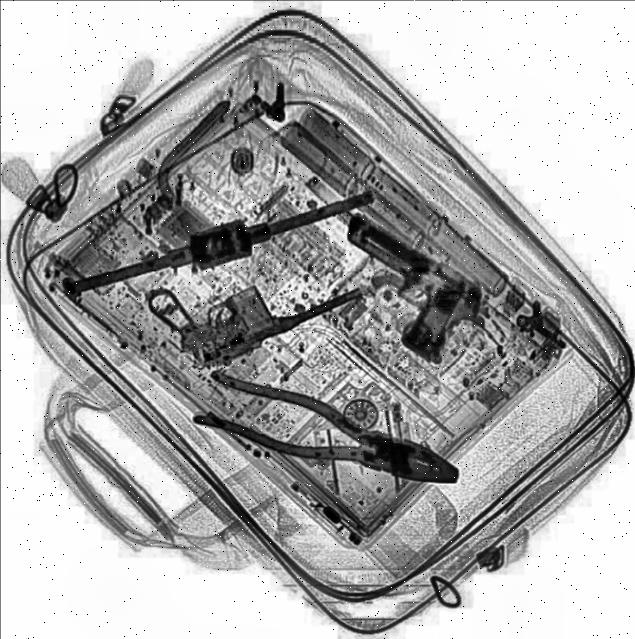Gun: (142, 214, 362, 384), (304, 208, 502, 372)
Pliers: (191, 366, 469, 502)
